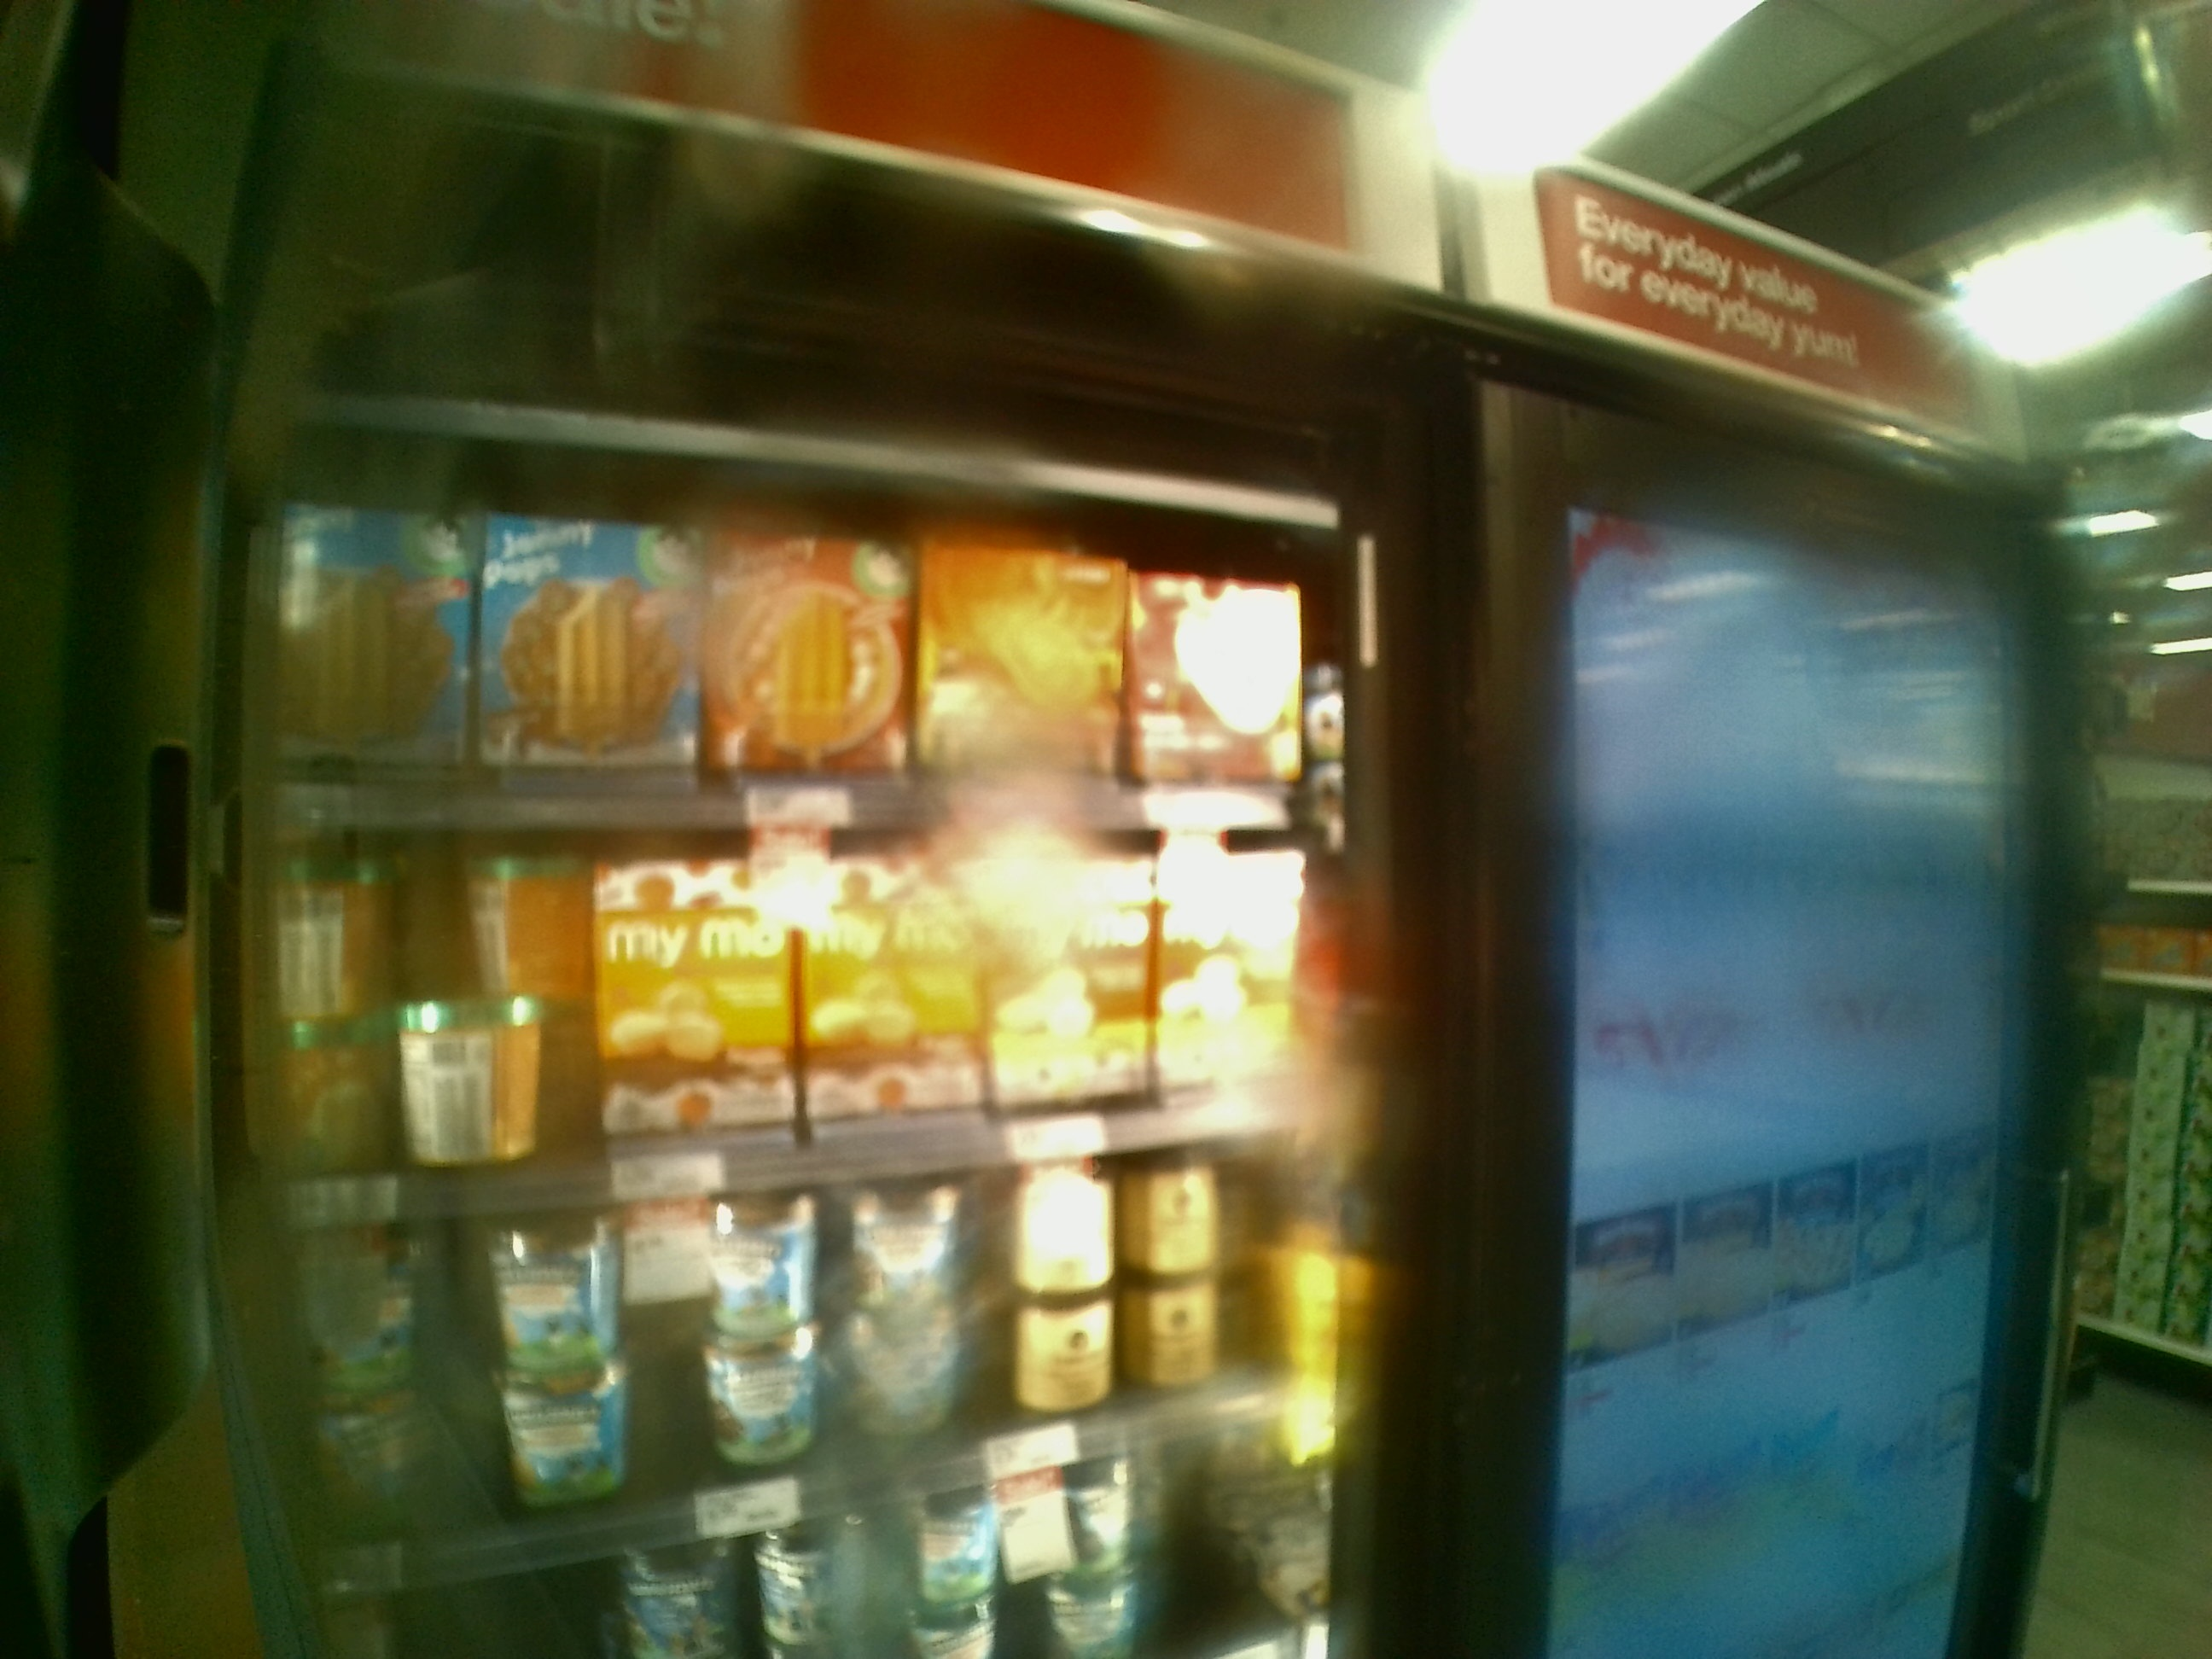shelf: (254, 1164, 1353, 1551), (265, 784, 1331, 1180), (279, 437, 1343, 803)
